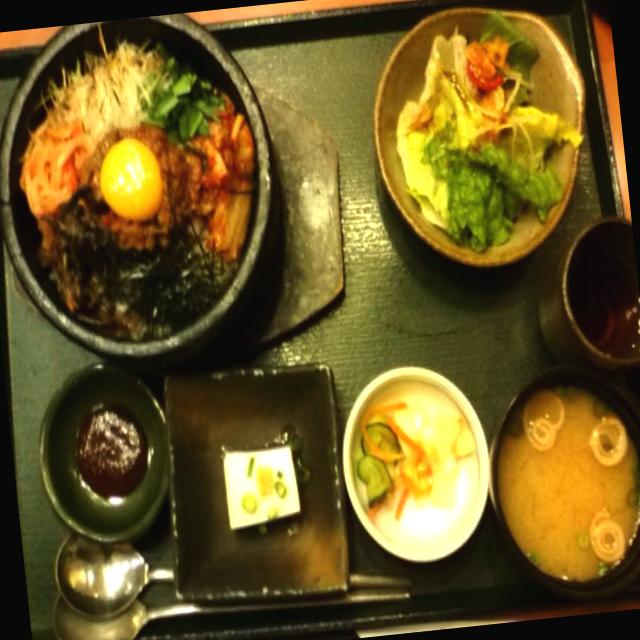Green Salad: (402, 16, 572, 244)
